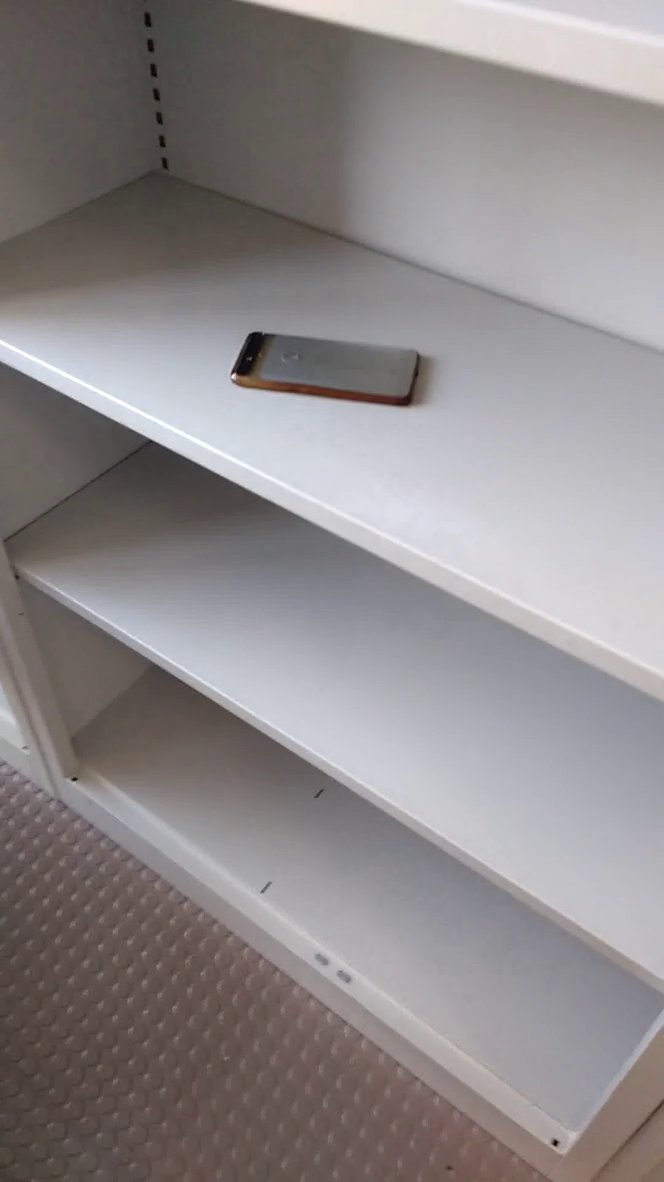phone: (216, 322, 446, 416)
